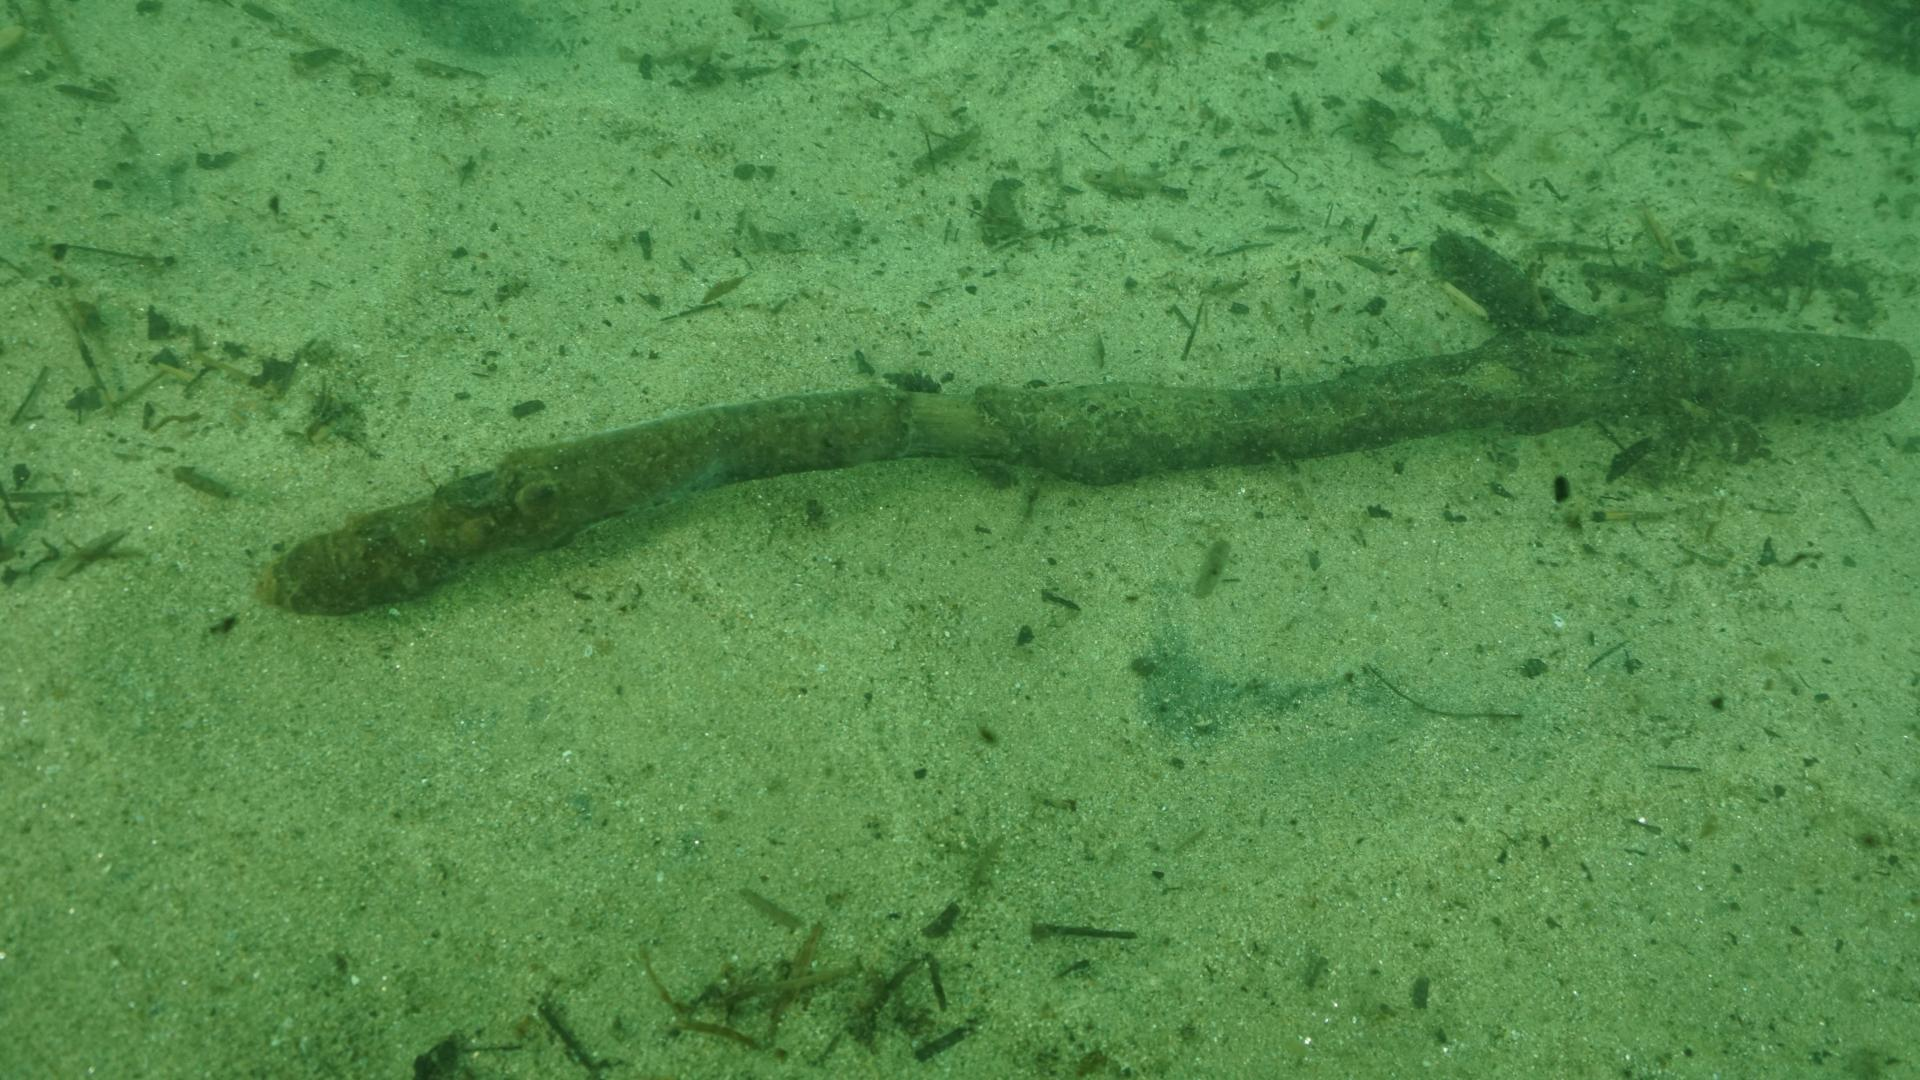wood: (255, 232, 1911, 616)
